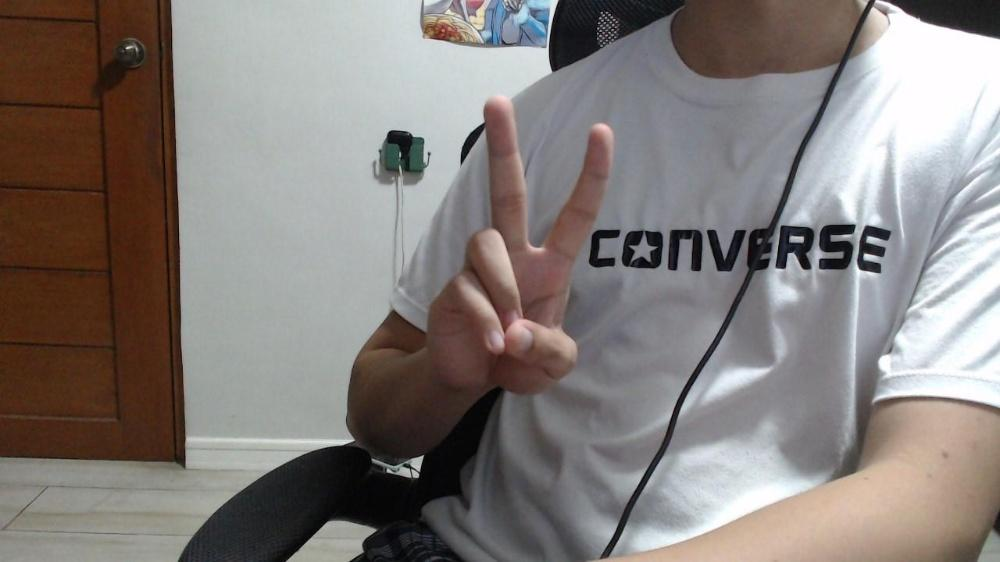v: (434, 96, 615, 395)
